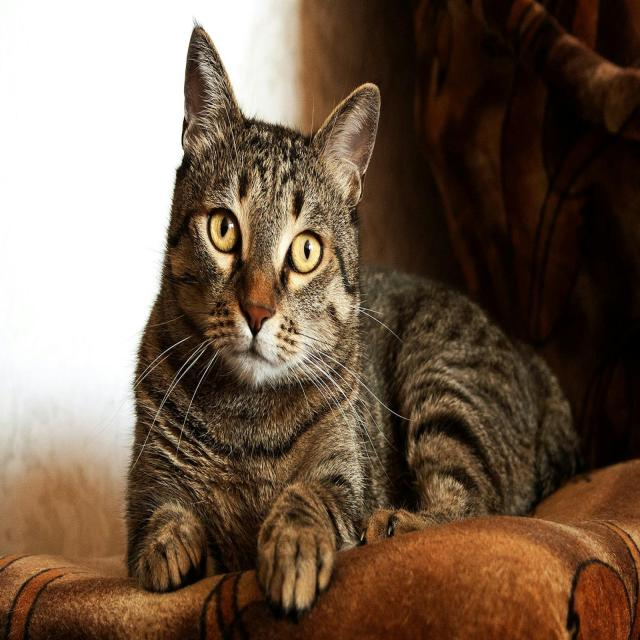Cat: (122, 18, 583, 616)
